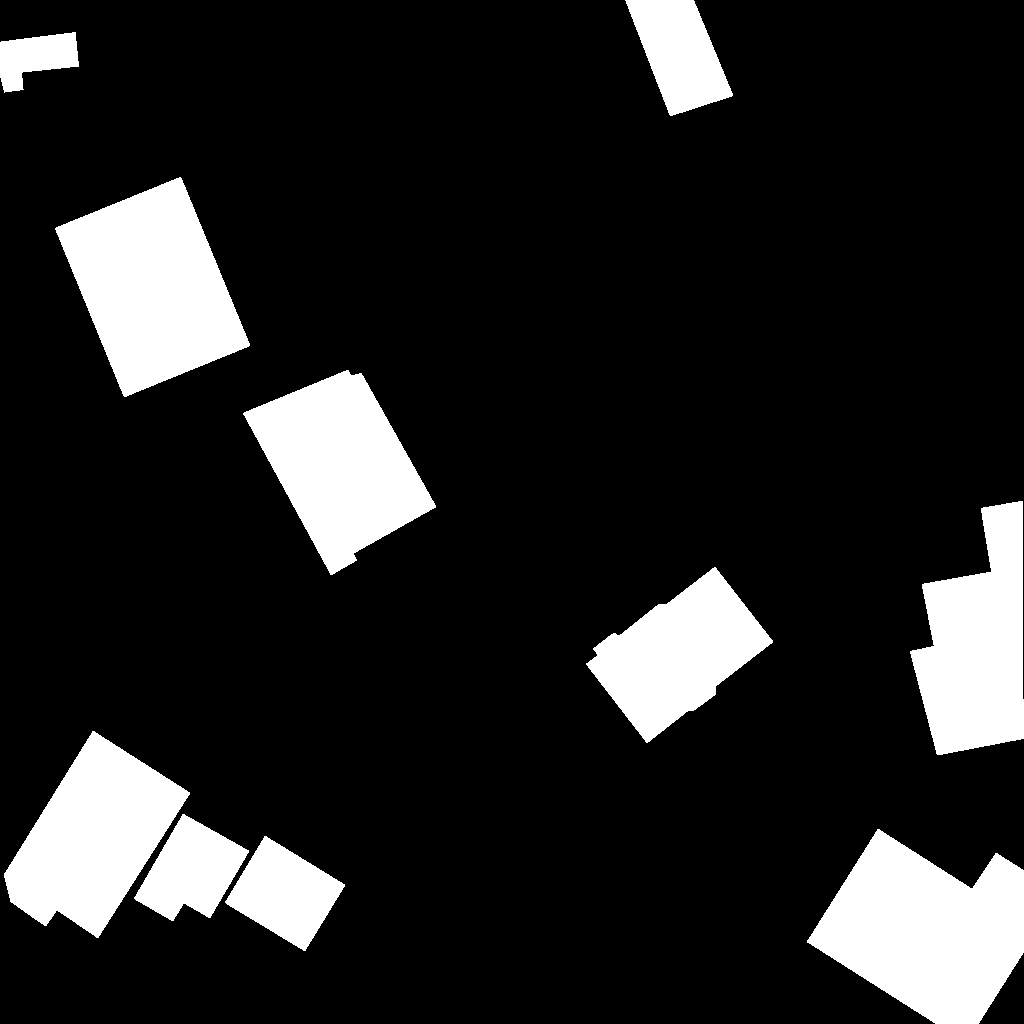building: (55, 177, 251, 398), (807, 829, 1024, 1024), (243, 370, 437, 576), (4, 731, 191, 939), (586, 567, 774, 744), (910, 501, 1024, 756), (225, 836, 346, 952), (625, 0, 734, 117), (134, 814, 250, 922), (0, 32, 80, 93)
